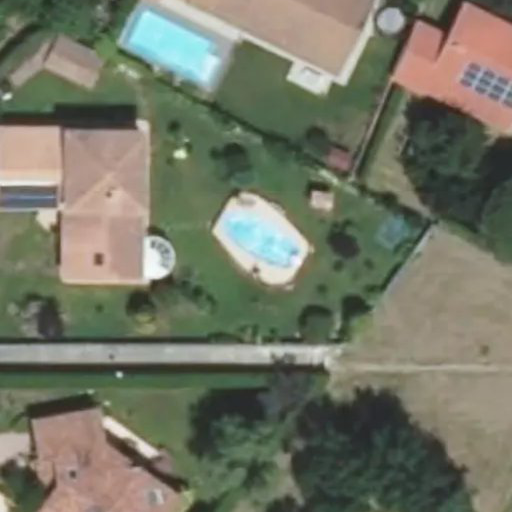pool: (122, 5, 222, 90), (221, 200, 310, 284)
